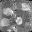people: (1, 17, 12, 27), (3, 7, 14, 16), (15, 16, 22, 26)
